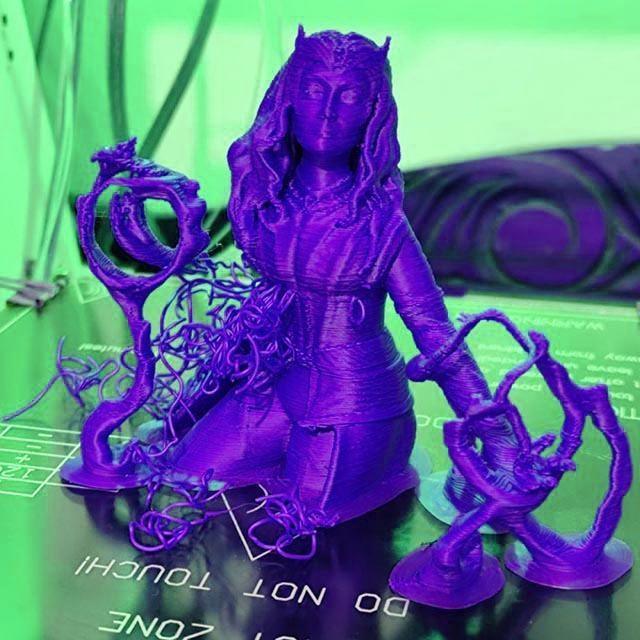Spaghetti: (125, 256, 296, 552), (0, 332, 130, 422), (245, 488, 342, 558), (512, 452, 578, 490), (348, 296, 366, 326)
